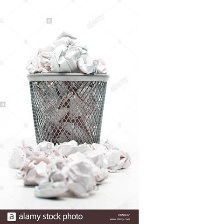book: (3, 136, 133, 201), (22, 29, 109, 75)
